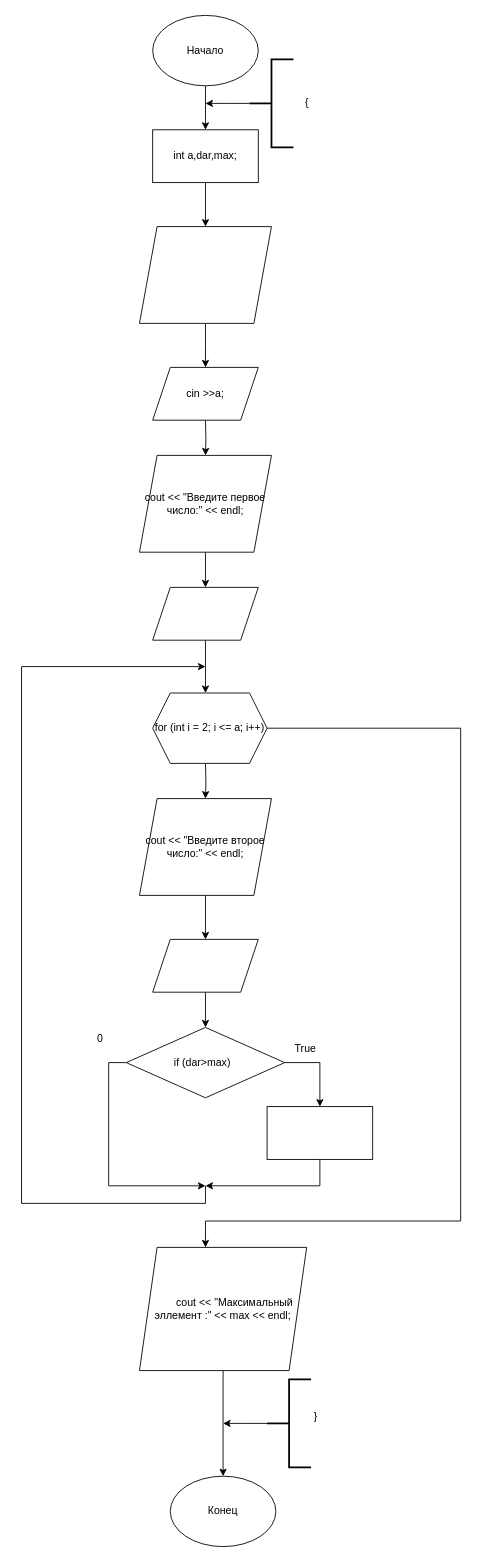
Some shapes in this 483 by 1562 pixel diagram are drawn without their labels. Here are the shapes that lost their labels. From the top down, the centre of each, then its label:
pixel 205 274: cout << "Введите длину последовательгости:" << endl;
pixel 205 613: cin >>max;
pixel 205 965: cin >>dar;
pixel 319 1132: {max=dar;}
